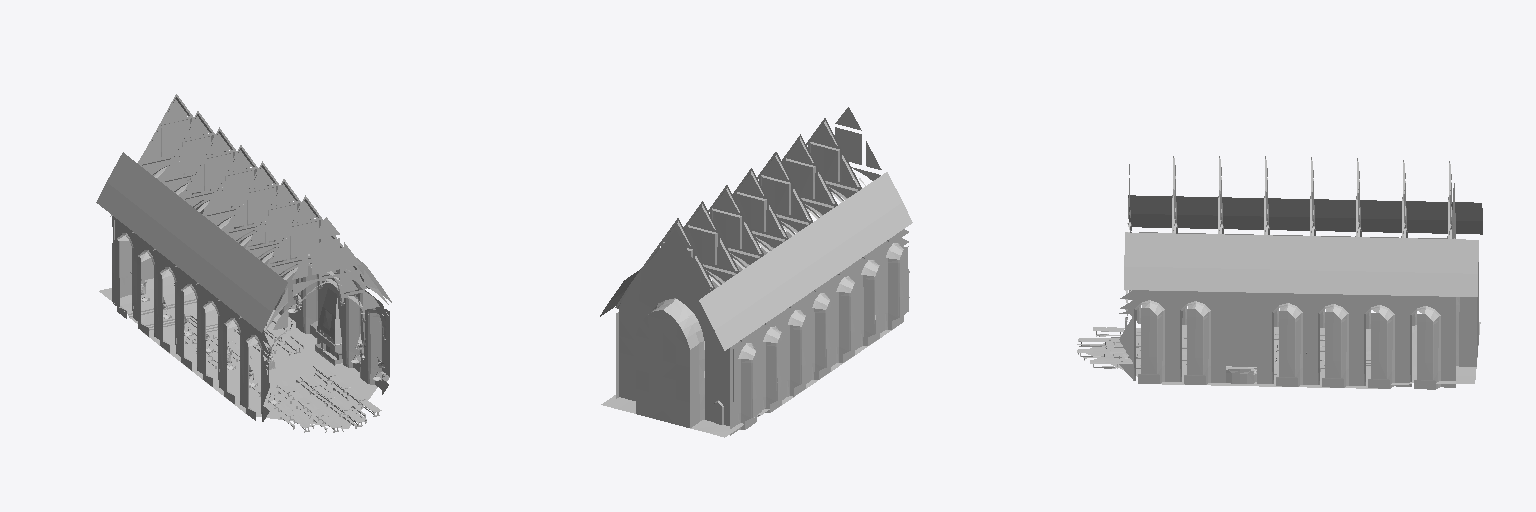
Rendered from Great Hall Model.obj.
3 views of the same model, side by side, from view 1: azimuth 30°, elevation 25°; view 2: azimuth 150°, elevation 25°; view 3: azimuth 270°, elevation 25° (orthographic).
Parts seen in each view (by area): view 1: d9ddedf3_dds, b5bc19cc_dds, 68beb346_dds, 3bbce3da_dds, 328d4ae5_dds, Wood-07, 4f85e217_dds, 25b6a5cc_dds, b1233fb9_dds, [number redacted]_dds, c3d5f4da_dds; view 2: 68beb346_dds, b5bc19cc_dds, d9ddedf3_dds, 4f85e217_dds, 328d4ae5_dds, 25b6a5cc_dds, 5e7e9342_dds, c3d5f4da_dds, b1233fb9_dds; view 3: b5bc19cc_dds, 68beb346_dds, 4f85e217_dds, 25b6a5cc_dds, c3d5f4da_dds, Wood-07, 328d4ae5_dds, 3bbce3da_dds, 5e7e9342_dds, b1233fb9_dds, d9ddedf3_dds.
Boxes of the visible parts, x1,y1,x2,y2 form: d9ddedf3_dds: [141, 99, 388, 364]; b5bc19cc_dds: [96, 152, 391, 332]; 68beb346_dds: [112, 116, 388, 420]; 3bbce3da_dds: [144, 310, 377, 428]; 328d4ae5_dds: [110, 94, 383, 357]; Wood-07: [184, 320, 381, 432]; 4f85e217_dds: [112, 173, 389, 407]; 25b6a5cc_dds: [119, 172, 389, 421]; b1233fb9_dds: [99, 275, 217, 332]; [number redacted]_dds: [316, 288, 341, 345]; c3d5f4da_dds: [113, 268, 388, 421]; 68beb346_dds: [616, 229, 909, 429]; b5bc19cc_dds: [600, 172, 912, 350]; d9ddedf3_dds: [618, 107, 881, 308]; 4f85e217_dds: [635, 247, 908, 417]; 328d4ae5_dds: [615, 118, 903, 341]; 25b6a5cc_dds: [653, 231, 904, 429]; 5e7e9342_dds: [648, 303, 699, 427]; c3d5f4da_dds: [616, 297, 909, 435]; b1233fb9_dds: [601, 395, 769, 437]; b5bc19cc_dds: [1124, 195, 1482, 296]; 68beb346_dds: [1119, 183, 1455, 389]; 4f85e217_dds: [1141, 262, 1478, 379]; 25b6a5cc_dds: [1123, 238, 1459, 387]; c3d5f4da_dds: [1119, 308, 1478, 387]; Wood-07: [1077, 327, 1324, 376]; 328d4ae5_dds: [1125, 156, 1451, 315]; 3bbce3da_dds: [1086, 325, 1377, 388]; 5e7e9342_dds: [1459, 297, 1476, 366]; b1233fb9_dds: [1366, 322, 1480, 384]; d9ddedf3_dds: [1128, 164, 1452, 234].
Size of the model in its own units: 194 by 252 by 461.